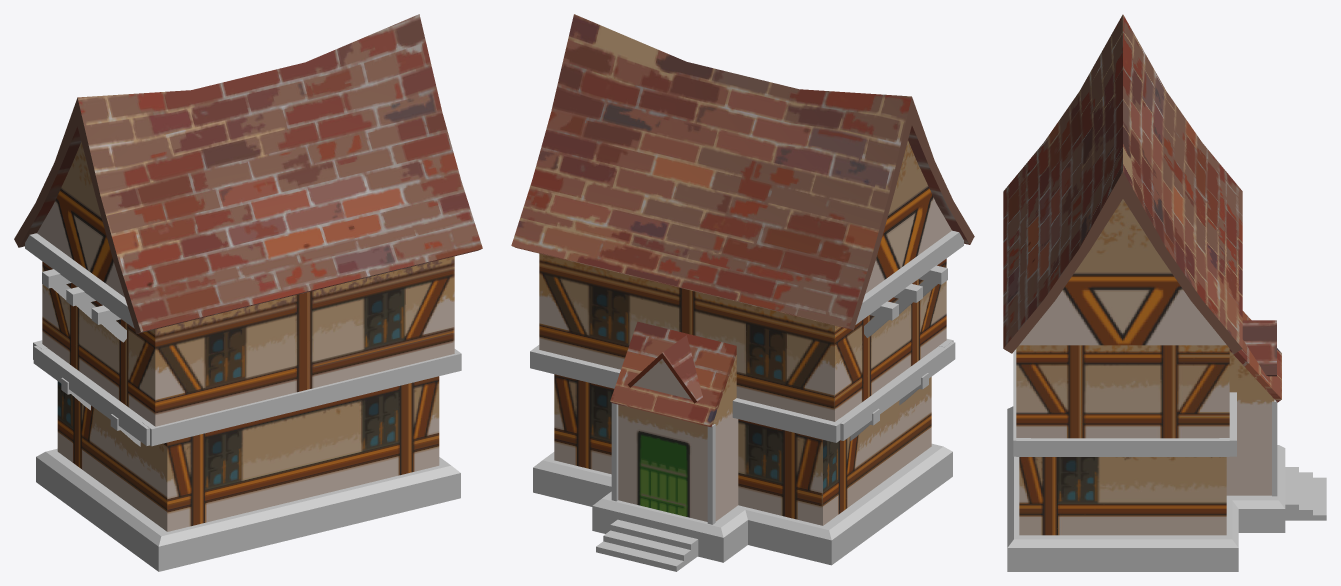
The model's file is house02.fbx.
3 renders of one model, left to right at view 1: azimuth 30°, elevation 25°; view 2: azimuth 150°, elevation 25°; view 3: azimuth 270°, elevation 25°, orthographic. The views are drawn at different scales.
Parts seen in each view (by area): view 1: house02; view 2: house02; view 3: house02.
Part boxes in pixels (box(x1,y1,x2,y2)): house02: box(14, 14, 482, 571); house02: box(511, 14, 974, 571); house02: box(1003, 14, 1326, 571).
Bounding box in the file's own units: 643 × 763 × 546.
